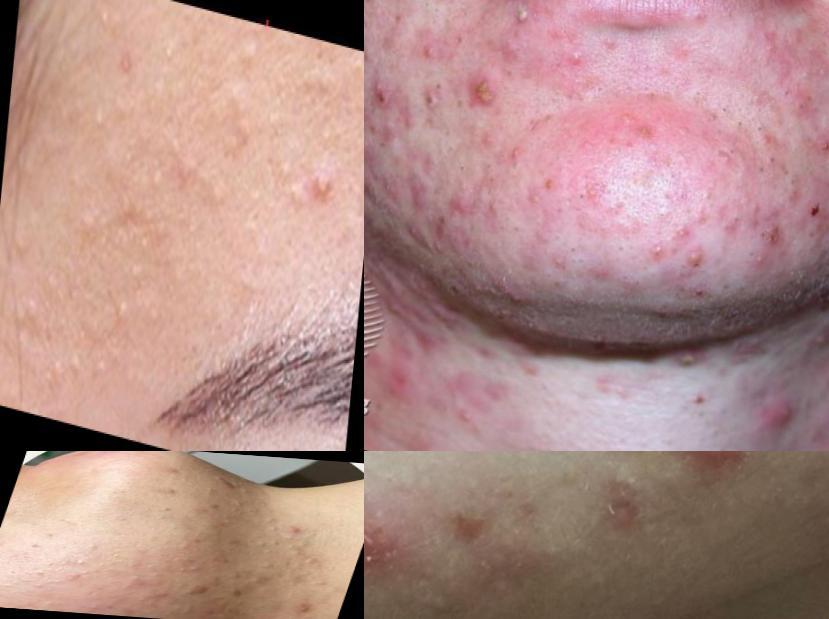blackhead: (706, 203, 754, 242), (639, 195, 684, 230), (775, 161, 807, 192), (744, 154, 777, 183), (758, 147, 789, 171), (713, 100, 736, 121), (611, 237, 634, 258), (732, 115, 752, 138), (754, 120, 773, 138)
cystic: (450, 156, 481, 182)
flat_wart: (39, 334, 84, 400)
keloid: (378, 297, 455, 369), (365, 150, 416, 221), (370, 241, 425, 299)
milium: (151, 16, 197, 78), (82, 90, 113, 152), (91, 1, 122, 43)
papular: (365, 498, 410, 585), (605, 102, 669, 157), (678, 452, 763, 490), (563, 169, 618, 217), (775, 72, 829, 120), (488, 274, 546, 314), (442, 187, 488, 226), (759, 210, 797, 249), (417, 84, 459, 119), (742, 240, 777, 277), (478, 189, 512, 224), (517, 184, 553, 215), (546, 248, 579, 281), (498, 141, 532, 171), (279, 525, 320, 543), (282, 601, 318, 619), (810, 129, 829, 162), (182, 588, 218, 601), (228, 587, 253, 602)
purulent: (732, 399, 810, 448), (495, 1, 543, 54), (461, 67, 509, 115), (304, 167, 343, 215), (411, 37, 451, 70), (678, 241, 715, 273), (562, 46, 599, 77), (642, 235, 679, 266), (673, 343, 706, 375)
whitehead: (692, 132, 751, 191), (107, 288, 140, 346), (607, 461, 645, 503), (252, 509, 294, 540), (252, 557, 298, 577), (228, 498, 254, 516), (302, 557, 330, 573), (197, 486, 230, 499), (177, 565, 207, 579), (126, 574, 151, 588), (74, 556, 100, 569), (32, 566, 54, 581), (309, 578, 336, 590), (132, 597, 159, 609), (85, 569, 106, 578)
